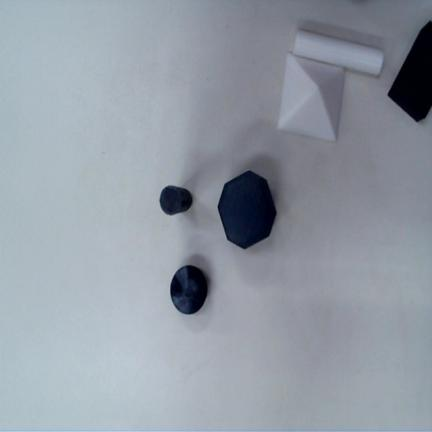Cilindro: (292, 30, 383, 76), (159, 185, 192, 215)
Esfera: (170, 265, 207, 314)
Paralelepipedo: (387, 21, 431, 122)
Piramide: (276, 52, 346, 144)
Prisma_hexagonal: (217, 170, 277, 248)
